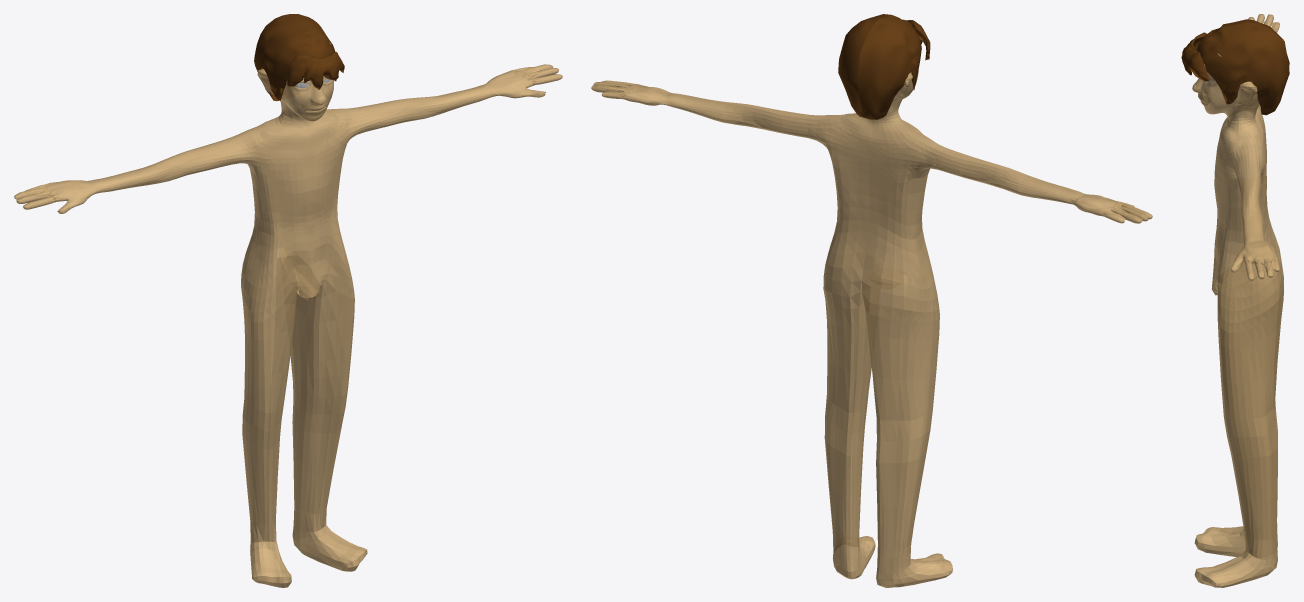
Rendered from human15.dae.
3 renders of one model, left to right at view 1: azimuth 30°, elevation 25°; view 2: azimuth 150°, elevation 25°; view 3: azimuth 270°, elevation 25°, orthographic. The views are drawn at different scales.
Visible parts, largest first — view 1: body, hair, hair_h; view 2: body, hair; view 3: body, hair, hair_h.
Boxes of the visible parts, box(x1,y1,x2,y2) form: body: box(14, 43, 562, 587); hair: box(254, 14, 334, 101); hair_h: box(287, 51, 344, 89); body: box(591, 70, 1152, 587); hair: box(838, 14, 921, 119); body: box(1192, 14, 1283, 587); hair: box(1197, 19, 1289, 115); hair_h: box(1181, 32, 1209, 81).
Bounding box in the file's own units: 9.25 × 1.61 × 8.93.
